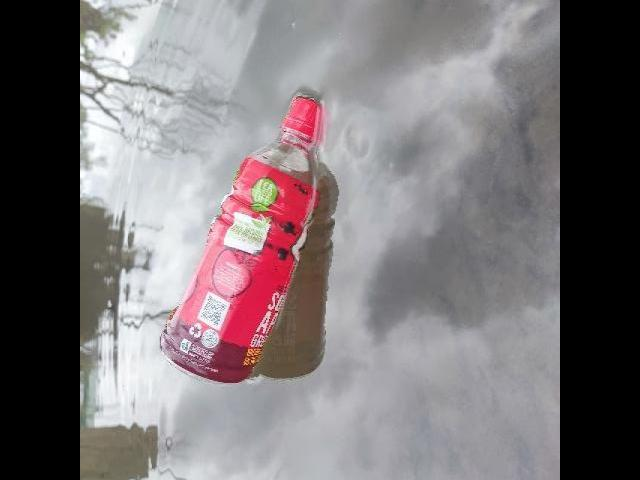Bottle: (154, 82, 334, 391)
